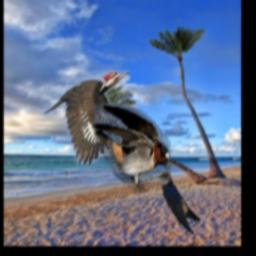Swallow: (93, 104, 170, 193), (159, 172, 216, 237)
Woodpecker: (44, 71, 129, 165)
